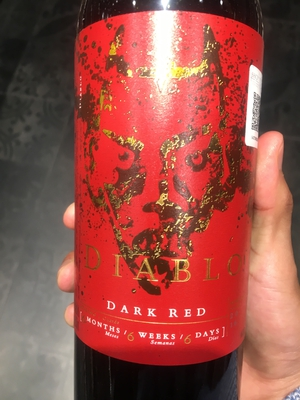diablo dark red: (66, 17, 269, 385)
